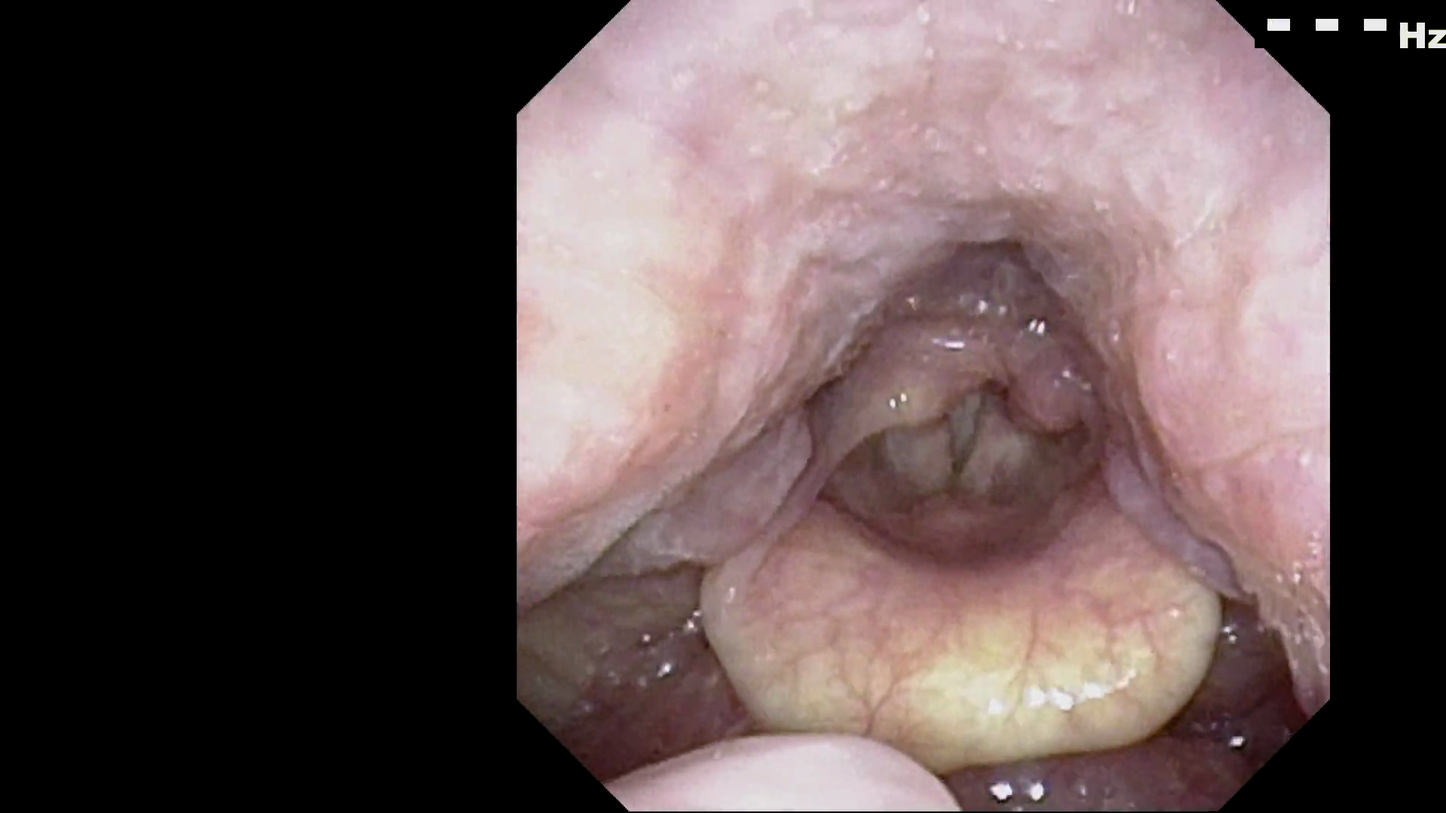epiglottis: (660, 492, 1269, 757)
trachea: (878, 350, 1045, 539)
